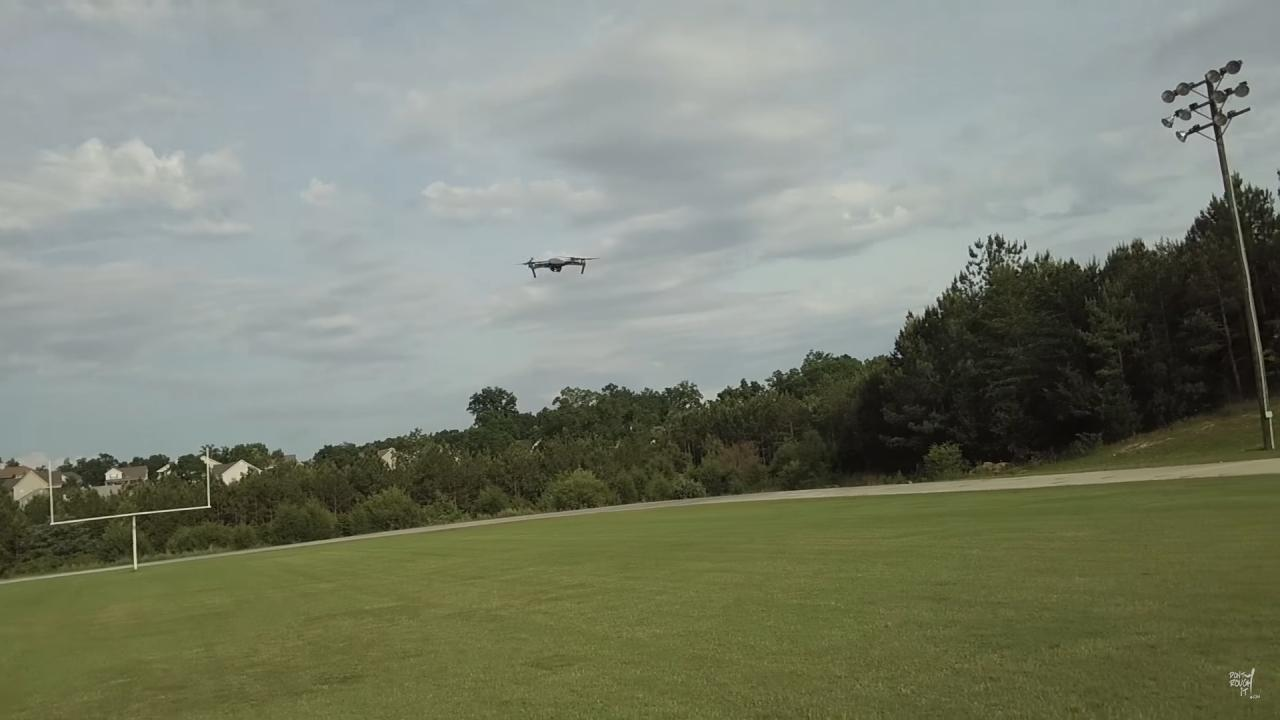Drone: (514, 250, 609, 287)
